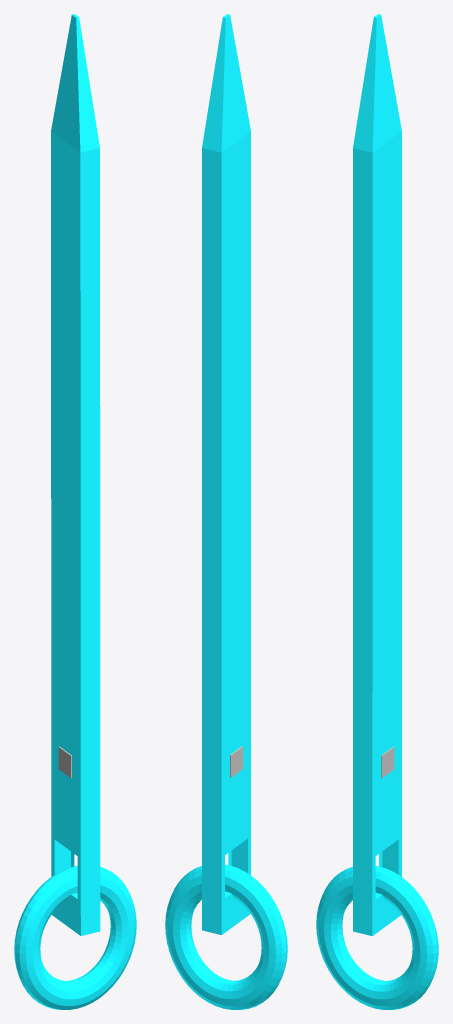
File: IronStick.fbx
3 renders of one model, left to right at view 1: azimuth 30°, elevation 25°; view 2: azimuth 150°, elevation 25°; view 3: azimuth 330°, elevation 25°, orthographic.
Visible parts, largest first — view 1: Cube, Torus, AttachPoint; view 2: Cube, Torus, AttachPoint; view 3: Cube, Torus, AttachPoint.
Boxes of the visible parts, x1,y1,x2,y2 form: Cube: (51, 14, 100, 935); Torus: (14, 866, 136, 1009); AttachPoint: (58, 746, 71, 778); Cube: (202, 14, 250, 934); Torus: (165, 864, 287, 1009); AttachPoint: (230, 746, 243, 777); Cube: (353, 14, 401, 936); Torus: (316, 866, 438, 1009); AttachPoint: (381, 746, 394, 778).
Bounding box in the file's own units: 11.2 × 88.2 × 4.78.
